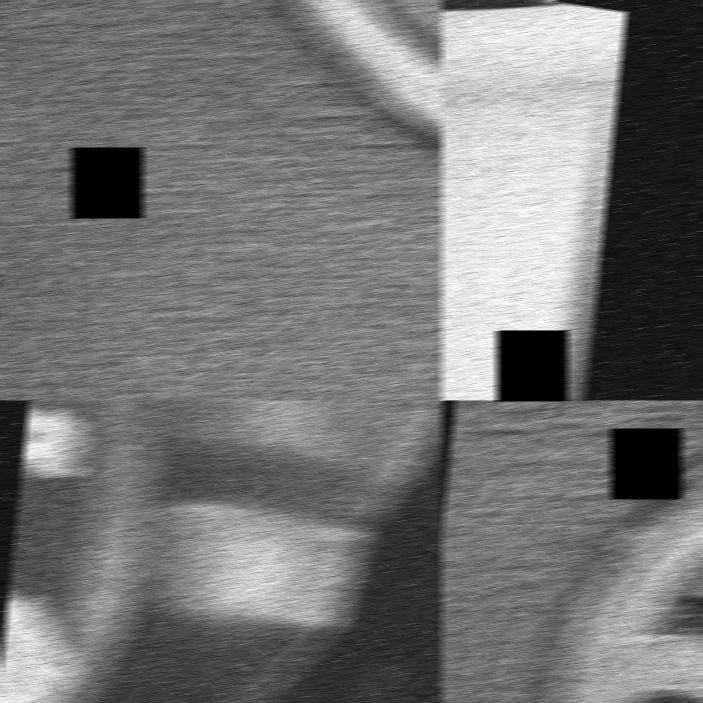Airbag: (0, 0, 443, 400), (0, 400, 443, 703), (441, 400, 703, 703), (441, 8, 627, 400)
